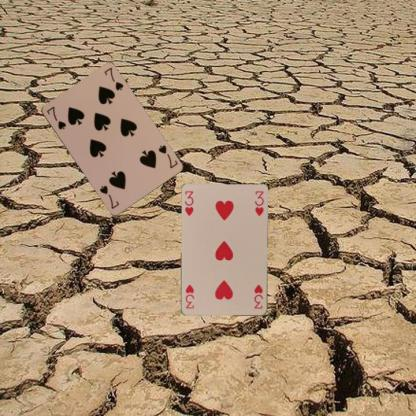3h: (251, 282, 264, 310), (182, 189, 195, 217)
7s: (156, 142, 179, 170), (44, 104, 67, 130)
